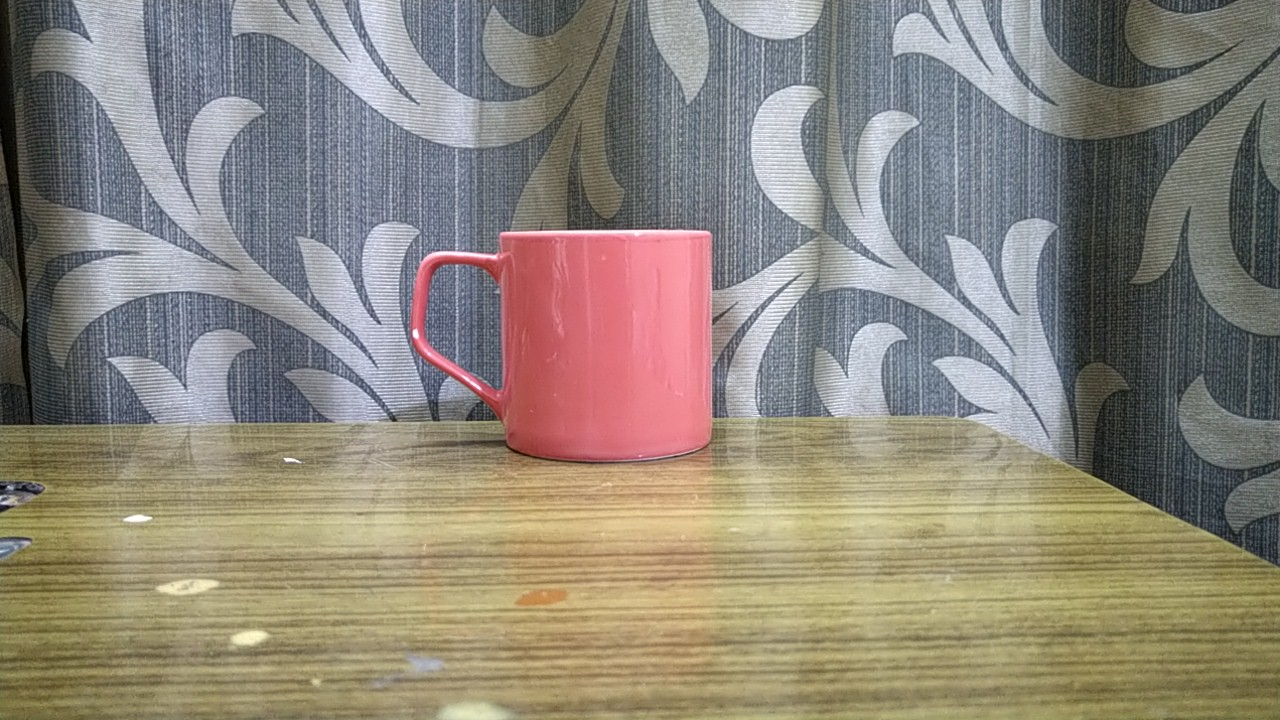cup: (405, 219, 728, 466)
